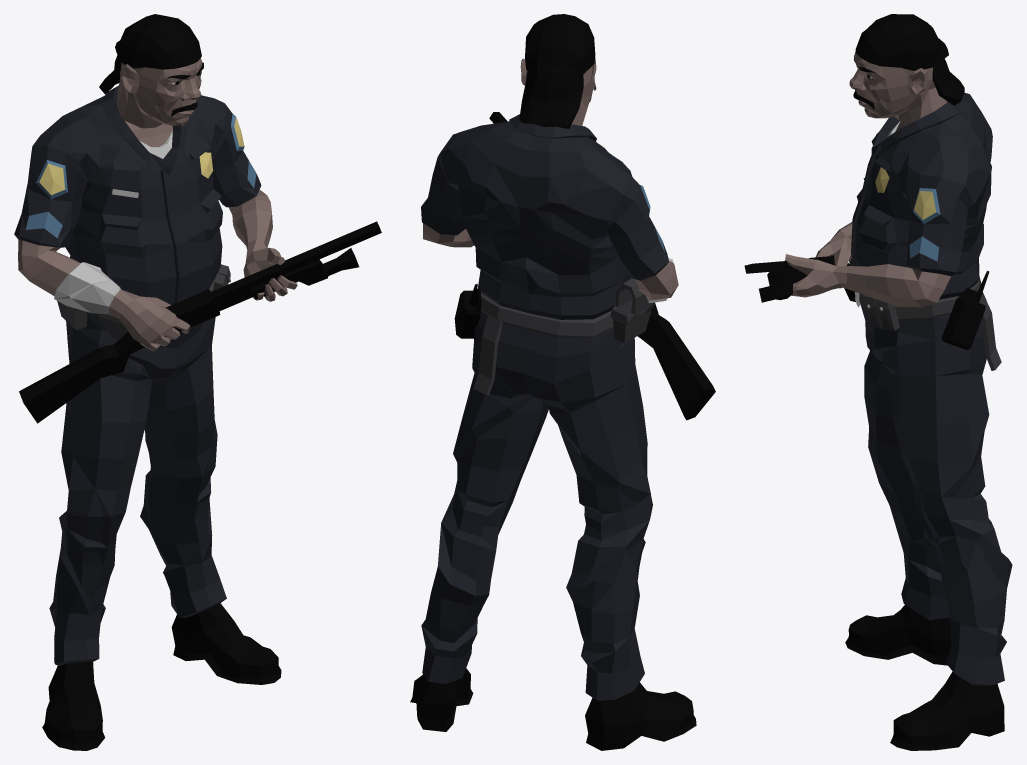
3 renders of one model, left to right at view 1: azimuth 30°, elevation 25°; view 2: azimuth 150°, elevation 25°; view 3: azimuth 270°, elevation 25°, orthographic. The views are drawn at different scales.
Visible parts, largest first — view 1: KennethHall.obj_BlueNavy_0, KennethHall.obj_Black_0, KennethHall.obj_Skin_0, KennethHall.obj_White_0, KennethHall.obj_BlackMetal_0, KennethHall.obj_Blue_0, KennethHall.obj_Gold_0; view 2: KennethHall.obj_BlueNavy_0, KennethHall.obj_Black_0, KennethHall.obj_BlackMetal_0, KennethHall.obj_Skin_0; view 3: KennethHall.obj_BlueNavy_0, KennethHall.obj_Black_0, KennethHall.obj_Skin_0, KennethHall.obj_BlackMetal_0, KennethHall.obj_Blue_0, KennethHall.obj_Gold_0.
Part boxes in pixels (left/top/right/bottom): KennethHall.obj_BlueNavy_0: left=14, top=85, right=261, bottom=666; KennethHall.obj_Black_0: left=19, top=14, right=381, bottom=750; KennethHall.obj_Skin_0: left=18, top=58, right=297, bottom=351; KennethHall.obj_White_0: left=54, top=71, right=200, bottom=314; KennethHall.obj_BlackMetal_0: left=57, top=264, right=230, bottom=340; KennethHall.obj_Blue_0: left=25, top=114, right=256, bottom=238; KennethHall.obj_Gold_0: left=39, top=117, right=244, bottom=195; KennethHall.obj_BlueNavy_0: left=421, top=114, right=668, bottom=700; KennethHall.obj_Black_0: left=410, top=14, right=715, bottom=750; KennethHall.obj_BlackMetal_0: left=473, top=278, right=654, bottom=395; KennethHall.obj_Skin_0: left=423, top=56, right=678, bottom=300; KennethHall.obj_BlueNavy_0: left=851, top=92, right=1012, bottom=685; KennethHall.obj_Black_0: left=744, top=14, right=1004, bottom=750; KennethHall.obj_Skin_0: left=785, top=51, right=950, bottom=307; KennethHall.obj_BlackMetal_0: left=849, top=258, right=1001, bottom=370; KennethHall.obj_Blue_0: left=909, top=188, right=940, bottom=261; KennethHall.obj_Gold_0: left=875, top=167, right=935, bottom=219.
Bounding box in the file's own units: 0.7892 × 1.78 × 0.6427.
